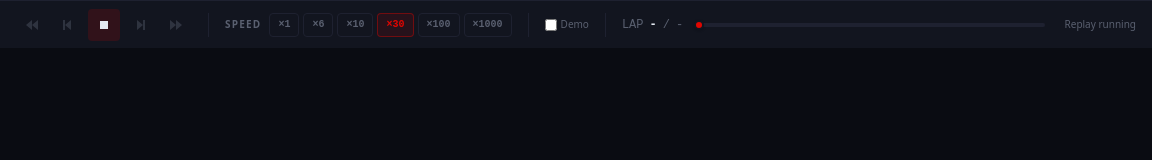
Scenario: ReplayControls › shows error message when stopReplay fails
Step 1. Click the button named "Stop replay" → coordinates (104, 24), box 88,8 -> 120,40
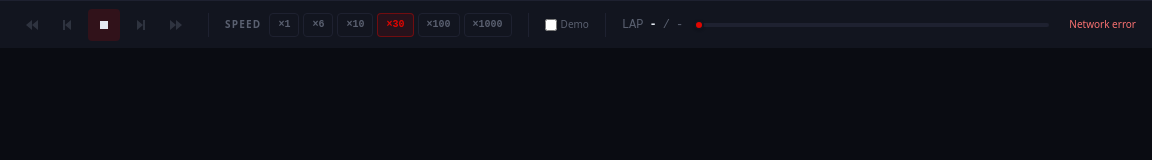
Expected: the text with test id "replay-error" reads "Network error", 1069,17 -> 1136,31
